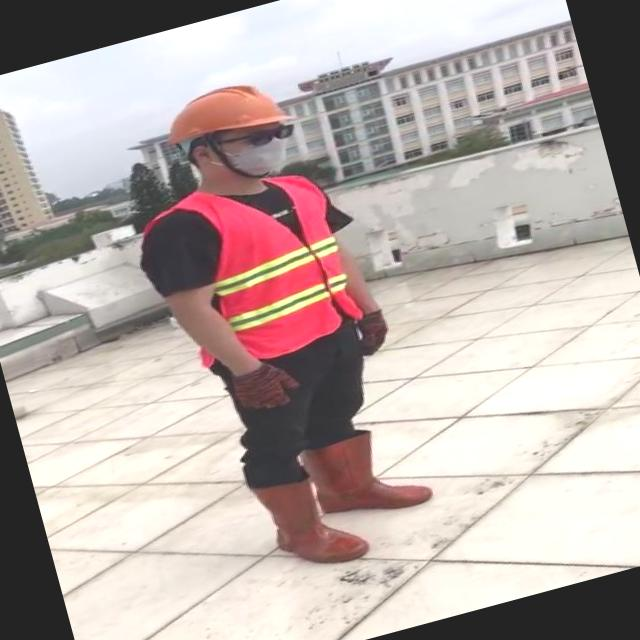boots: (302, 422, 434, 530), (256, 464, 371, 578)
gloves: (216, 328, 316, 426), (348, 291, 407, 358)
helmet: (155, 69, 291, 152)
vest: (154, 160, 368, 376)
